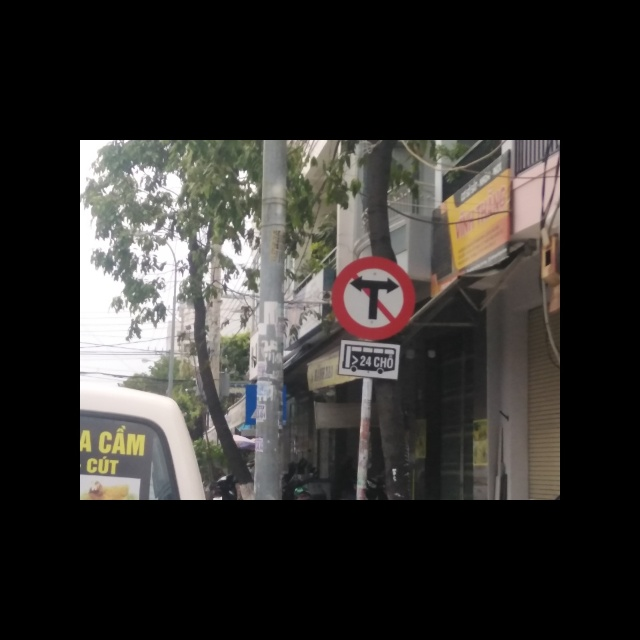Cấm rẽ trái và rẽ phải: (332, 256, 413, 339)
